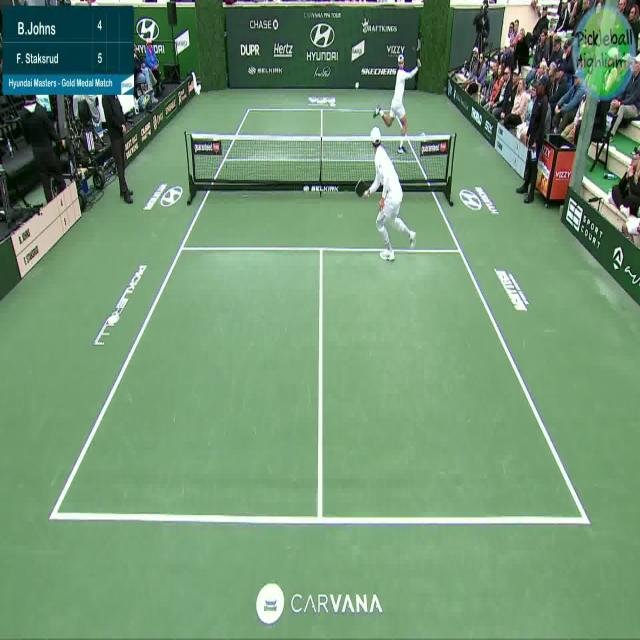Court: (52, 107, 588, 521)
ball: (352, 80, 362, 94)
